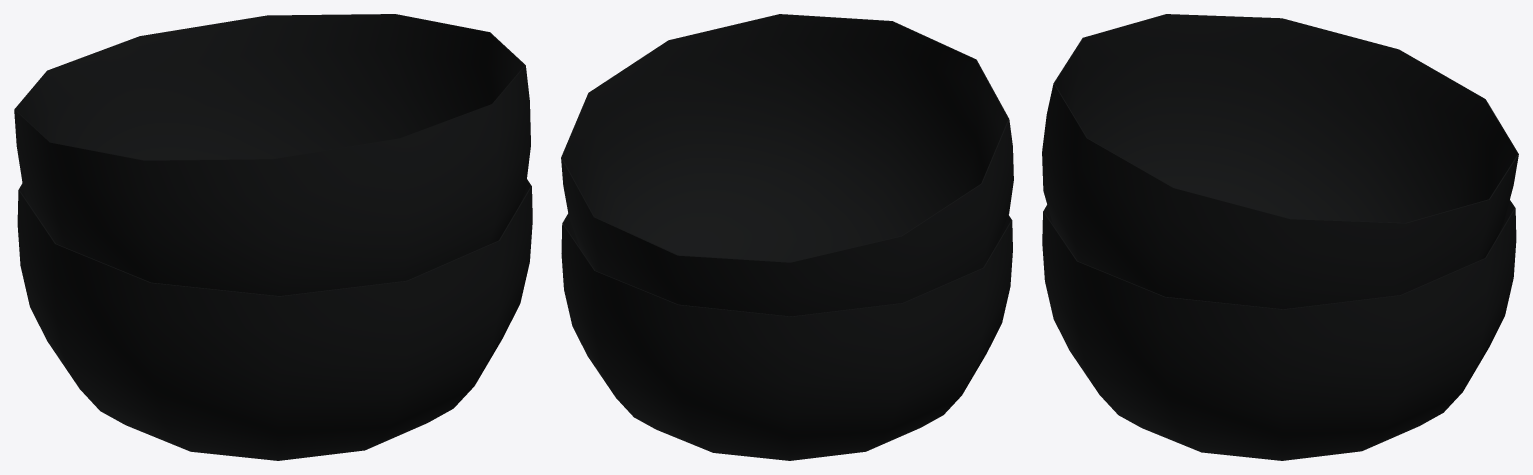
The model's file is MetalPlate002.FBX.
3 views of the same model, side by side, from view 1: azimuth 30°, elevation 25°; view 2: azimuth 150°, elevation 25°; view 3: azimuth 270°, elevation 25° (orthographic). The views are drawn at different scales.
Parts seen in each view (by area): view 1: MetalPlate002; view 2: MetalPlate002; view 3: MetalPlate002.
Part boxes in pixels (x1,y1,x2,y2): MetalPlate002: (14, 14, 532, 460); MetalPlate002: (561, 14, 1013, 460); MetalPlate002: (1042, 14, 1518, 460).
Size of the model in its own units: 0.3944 by 0.3078 by 0.3955.
1 material, 1 textured.
